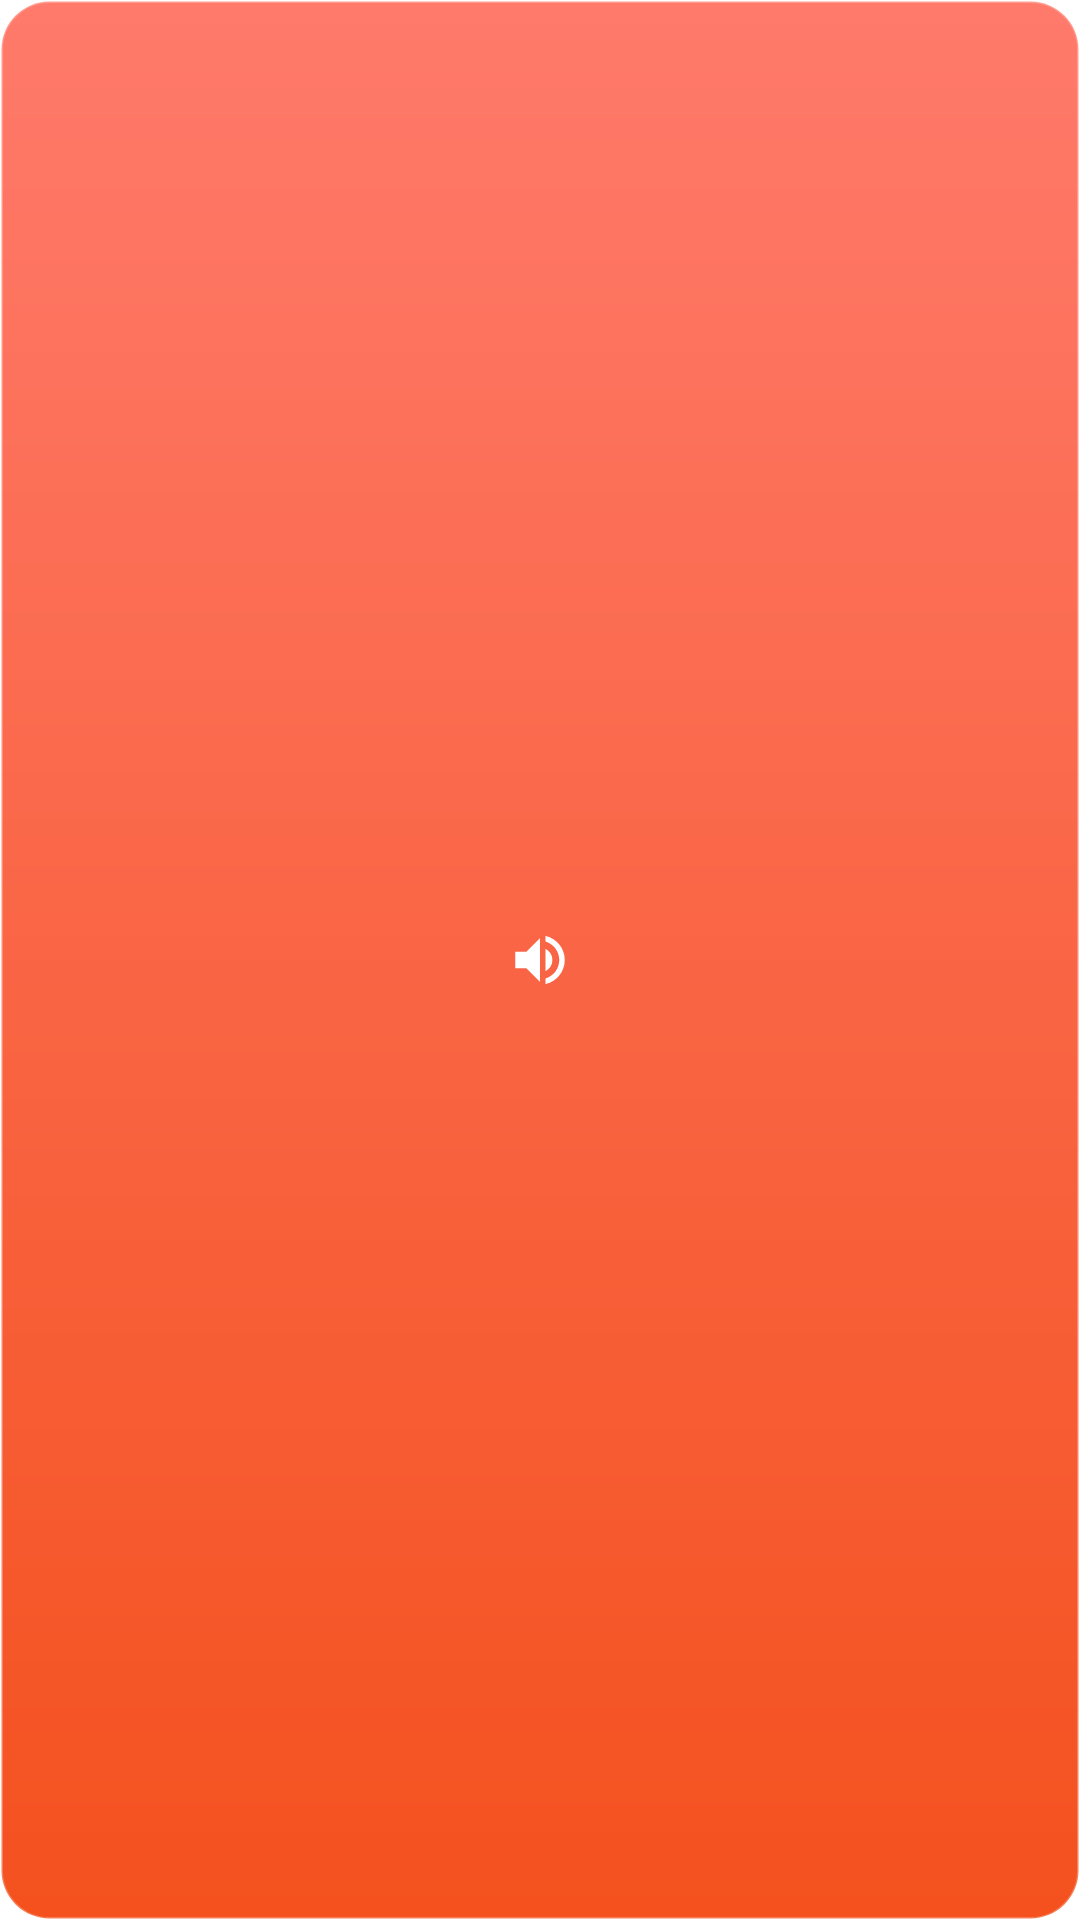

Named icons in this screenshot (1080w x 1920h) and their centers, [x,y]:
Tap to open system volume slider, drag or hold to move: [540,960]
